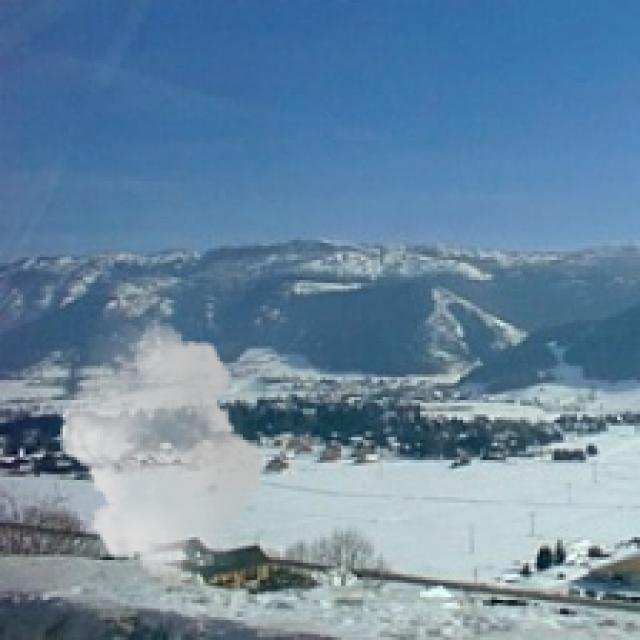smoke: (51, 317, 272, 583)
